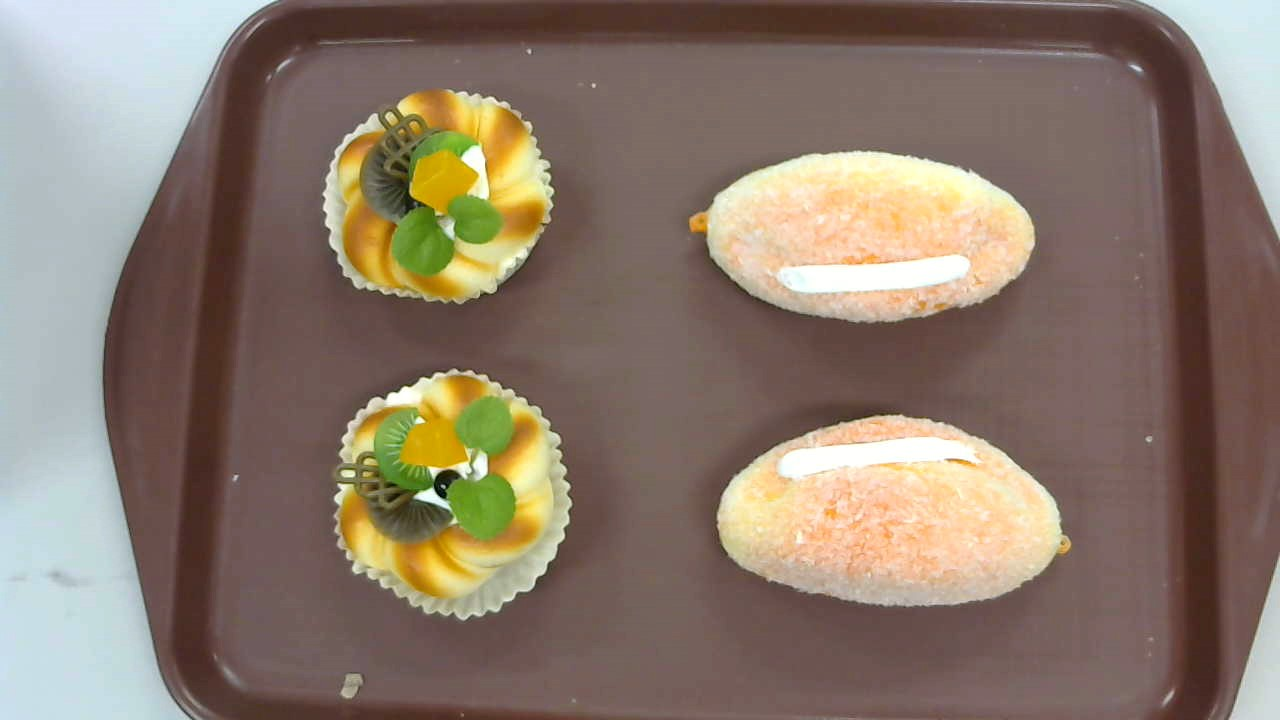coconut: (716, 415, 1072, 609), (688, 147, 1036, 325)
fruit tart: (332, 368, 573, 621), (322, 87, 556, 305)
